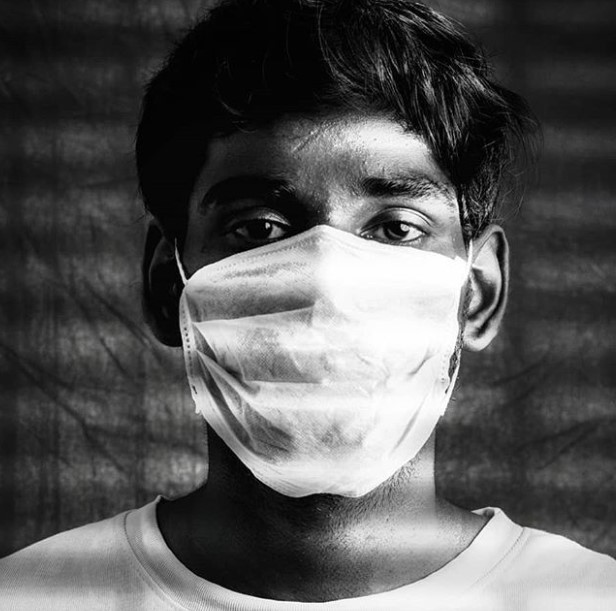face_with_mask: (140, 30, 513, 510)
